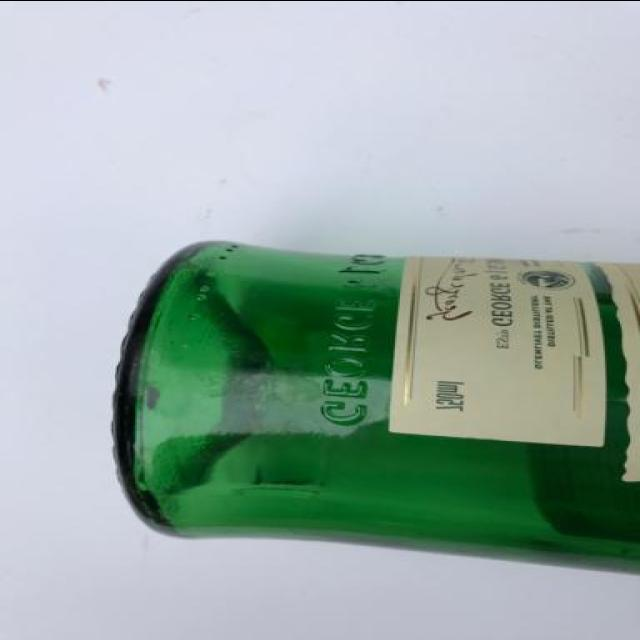glass: (114, 239, 640, 579)
